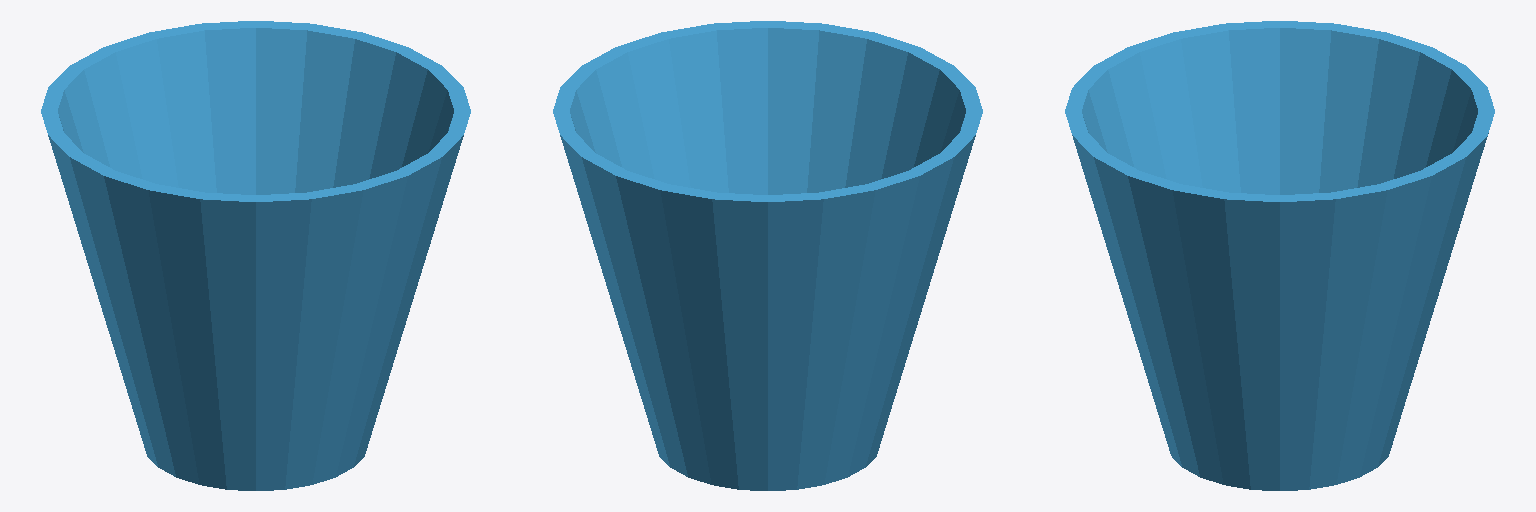
robot.urdf — partnet_75612c0c1d5730eaf93a86670701266:
<?xml version="1.0" ?>
<robot name="partnet_75612c0c1d5730eaf93a86670701266">
	<link name="base"/>
	<!-- <link name="link_0">
		<visual name="handle-1">
			<origin xyz="0 -0.4392541506564456 0.0025613898411393724"/>
			<geometry>
				<mesh filename="textured_objs/original-2.obj" scale="0.1 0.1 0.1"/>
			</geometry>
		</visual>
		<collision>
			<origin xyz="0 -0.4392541506564456 0.0025613898411393724"/>
			<geometry>
				<mesh filename="textured_objs/original-2.obj" scale="0.1 0.1 0.1"/>
			</geometry>
		</collision>
	</link>
	<joint name="joint_0" type="fixed">
		<origin xyz="0 0.4392541506564456 -0.0025613898411393724"/>
		<axis xyz="-1 0 0"/>
		<child link="link_0"/>
		<parent link="link_1"/>
		<limit lower="-1.5707963267948966" upper="1.5707963267948966"/>
	</joint> -->
	<link name="link_1">
		<visual name="base_body-2">
			<origin xyz="0 0 0"/>
			<geometry>
				<mesh filename="textured_objs/original-1.obj" scale="0.1 0.1 0.1"/>
			</geometry>
		</visual>
		<collision>
			<origin xyz="0 0 0"/>
			<geometry>
				<mesh filename="textured_objs/original-1.obj" scale="0.1 0.1 0.1"/>
			</geometry>
		</collision>
	</link>
	<joint name="joint_1" type="fixed">
		<origin rpy="1.570796326794897 0 -1.570796326794897" xyz="0 0 0"/>
		<child link="link_1"/>
		<parent link="base"/>
	</joint>
</robot>

--- What the picture shows (computed from the rendered views, not written in the file) ---
The picture shows the robot from 3 angles, left to right: view 1: azimuth 30°, elevation 25°; view 2: azimuth 150°, elevation 25°; view 3: azimuth 270°, elevation 25°; orthographic projection.
Model partnet_75612c0c1d5730eaf93a86670701266 with 2 links and 1 joints (1 fixed), rooted at base, posed every joint at zero.
Visible links, largest first — view 1: link_1; view 2: link_1; view 3: link_1.
Boxes of the visible links, bbox=[...] form: link_1: bbox=[41, 21, 470, 490]; link_1: bbox=[553, 21, 982, 490]; link_1: bbox=[1065, 21, 1494, 490].
Size in the robot's own frame: 0.1138 by 0.1138 by 0.0975 metres.
1 mesh visuals loaded from 1 distinct referenced files (1 OBJ).
